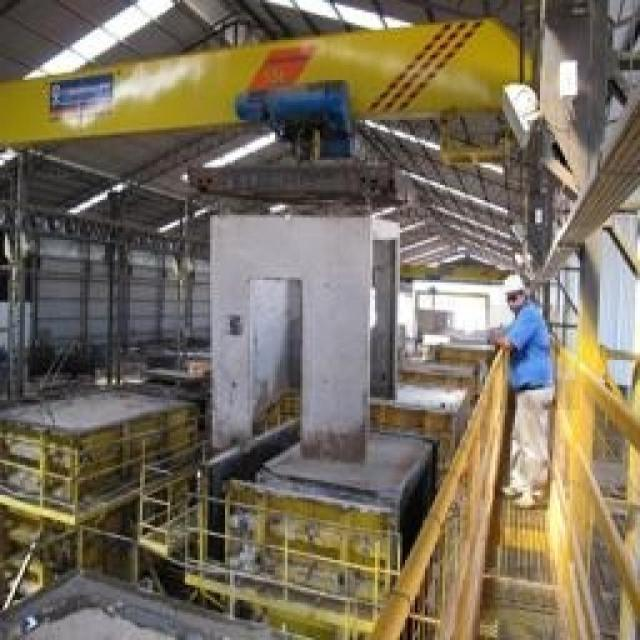Helmet: (486, 305, 580, 410), (498, 263, 540, 318)
